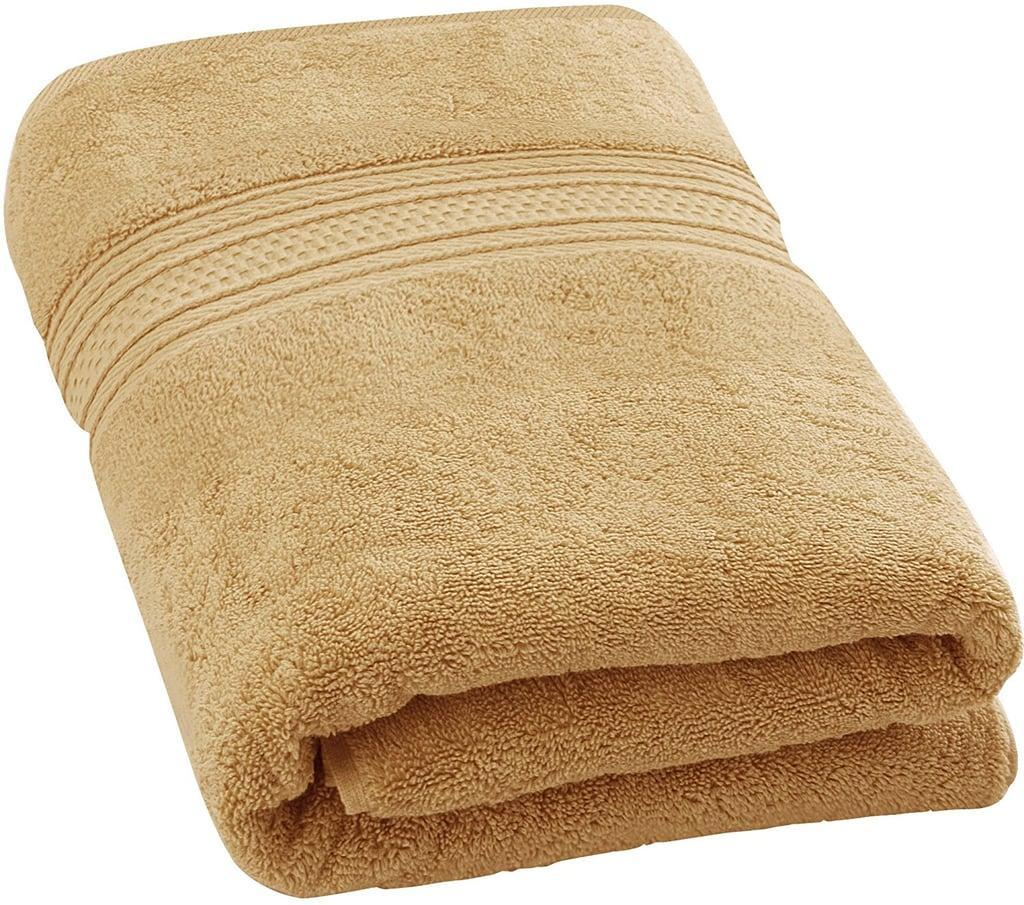towel: (4, 14, 1024, 905)
